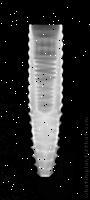Cowellmedi: (29, 24, 63, 178)
